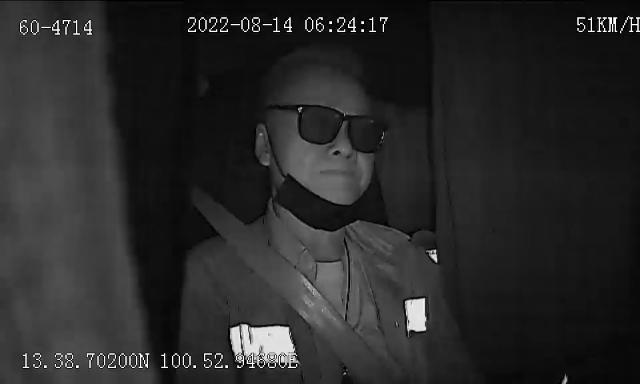Seatbelt: (195, 200, 392, 382)
